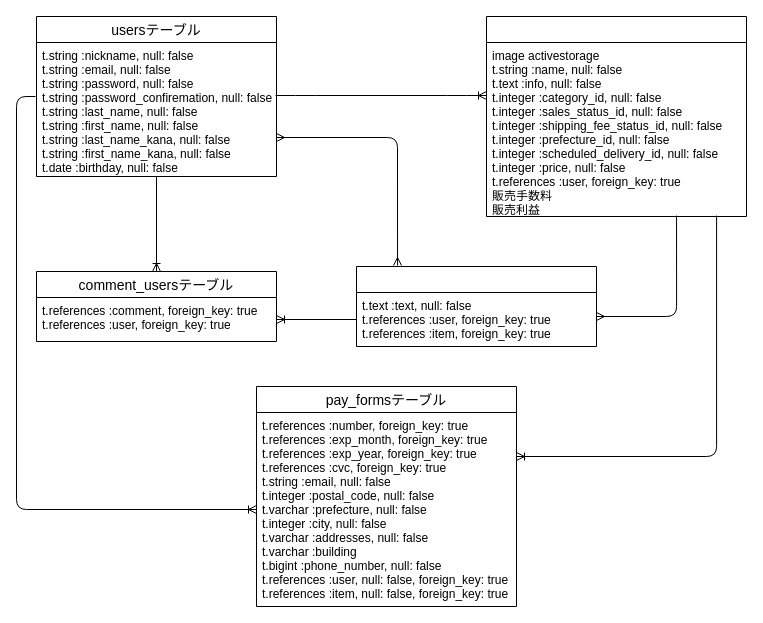
This 763x623 diagram has some shape labels left out. Here are the shapes that lost their labels. From the top down, the box of each, then its label:
(486, 16, 746, 216): itemsテーブル
(356, 266, 596, 346): commentsテーブル
